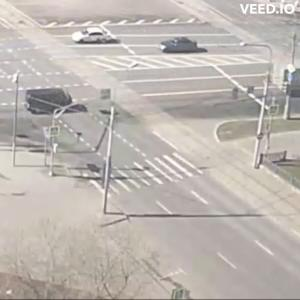car: (24, 87, 81, 116), (163, 39, 209, 56), (73, 29, 119, 45)
